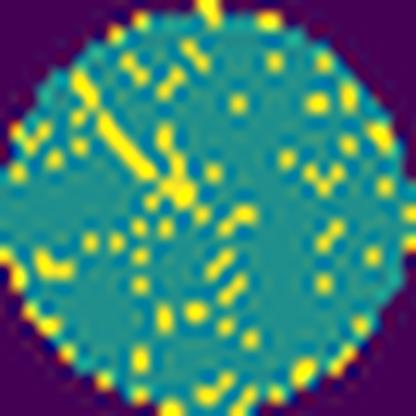Scratch: (69, 68, 214, 233)
